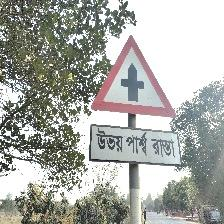Crossroad: (88, 29, 184, 167)
